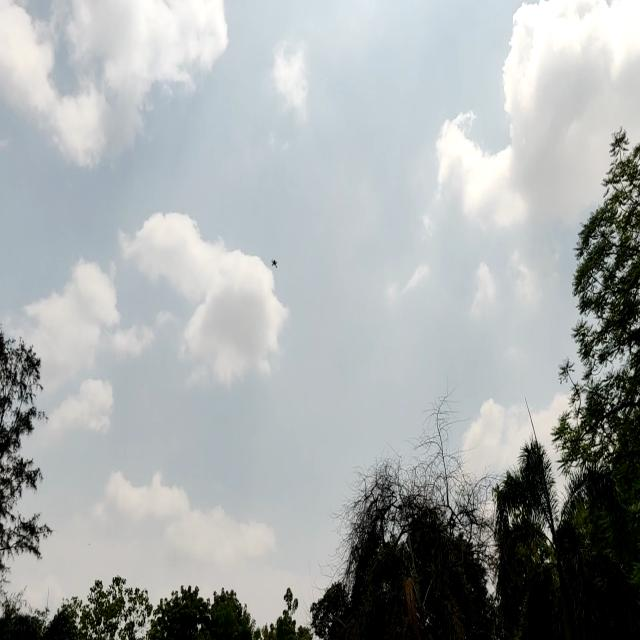drone: (269, 253, 281, 269)
